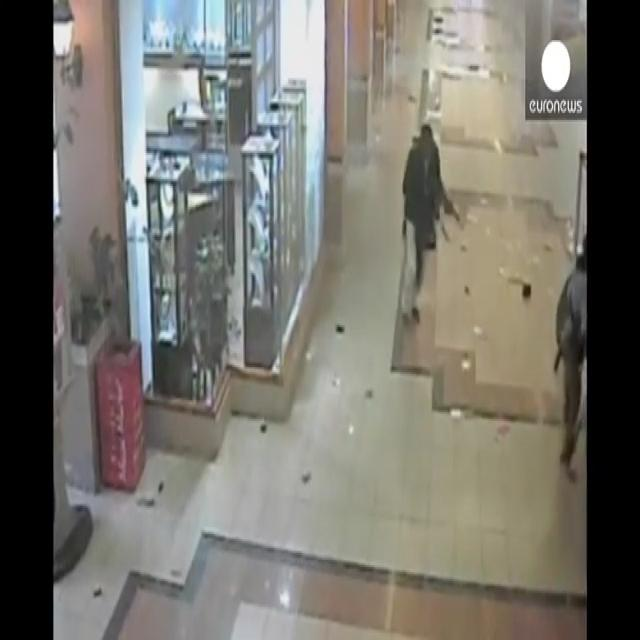Weapon: (408, 131, 485, 245)
